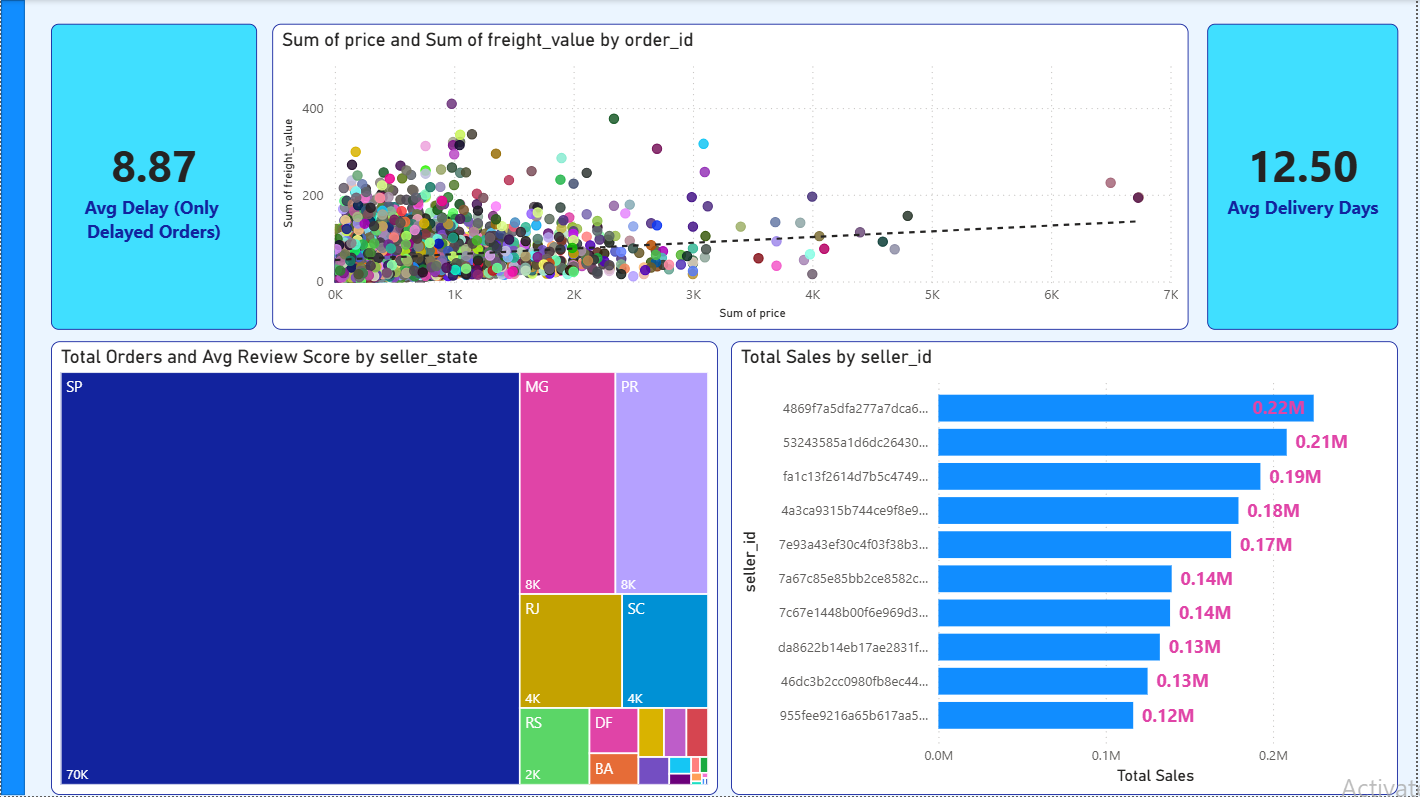

The dashboard page shown, as its layout file describes it:
{"tool":"powerbi","page":{"name":"Sellers & Logistics","canvas":[1280,720],"ordinal":2},"visuals":[{"type":"shape","box":[0,0,21.7,719.5],"z":0},{"type":"card","fields":{"Values":["_Measures.Delivery Delay Days"]},"box":[45.3,21.3,186.5,277.1],"z":1000},{"type":"clusteredBarChart","fields":{"Category":["olist_sellers_dataset.seller_id"],"Y":["_Measures.Total Sales"]},"box":[660.8,309.1,603.5,410.3],"z":2000},{"type":"treemap","fields":{"Group":["olist_sellers_dataset.seller_state"],"Values":["_Measures.Total Orders"]},"box":[45.3,309.1,603.5,410.3],"z":3000},{"type":"card","fields":{"Values":["_Measures.Avg Delivery Days"]},"box":[1091.1,21.3,173.2,277.1],"z":4000},{"type":"scatterChart","fields":{"X":["olist_order_items_dataset.price"],"Y":["Sum(olist_order_items_dataset.freight_value)"],"Series":["olist_order_items_dataset.order_id"]},"box":[245.1,21.3,828.6,277.1],"z":5000}]}

Visuals, with their boxes in screenshot pixels (x1, y1, x2, y2), scaled from the page's 1280x720 canvas onto the 1420x797 screenshot:
shape: 0/0/24/796
card - _Measures.Delivery Delay Days: 50/24/257/330
clusteredBarChart - olist_sellers_dataset.seller_id x _Measures.Total Sales: 733/342/1403/796
treemap - olist_sellers_dataset.seller_state x _Measures.Total Orders: 50/342/720/796
card - _Measures.Avg Delivery Days: 1210/24/1403/330
scatterChart - olist_order_items_dataset.price x Sum(olist_order_items_dataset.freight_value): 272/24/1191/330
